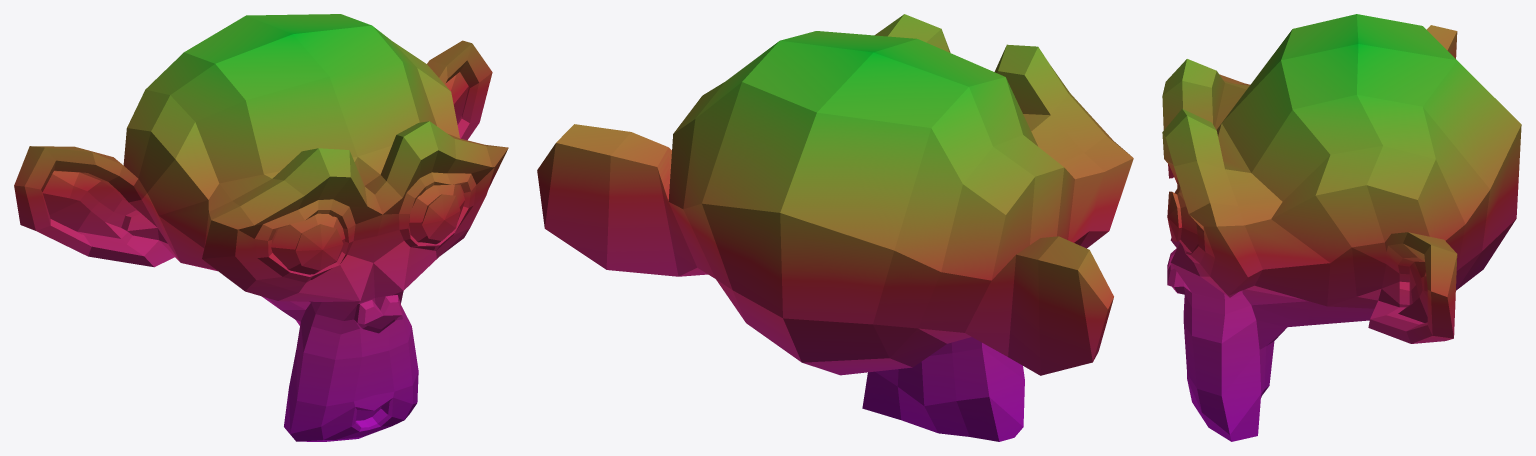
3 views of the same model, side by side, from view 1: azimuth 30°, elevation 25°; view 2: azimuth 150°, elevation 25°; view 3: azimuth 270°, elevation 25° (orthographic). The views are drawn at different scales.
Parts seen in each view (by area): view 1: 猴头; view 2: 猴头; view 3: 猴头.
Boxes of the visible parts, x1,y1,x2,y2 form: 猴头: (14, 14, 508, 441); 猴头: (537, 14, 1133, 441); 猴头: (1162, 14, 1521, 441).
Size of the model in its own units: 2.73 by 1.97 by 1.7.
Materials: 1 (1 with a texture image).
